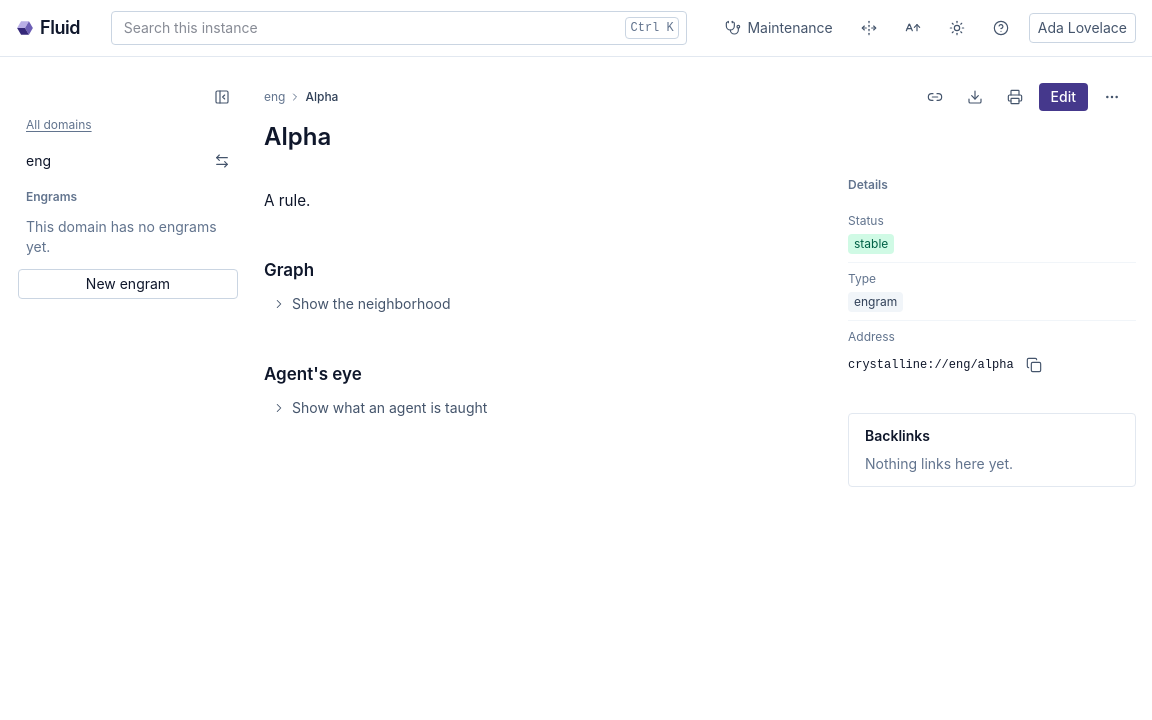
it: the palette's actions › shares through the same live region the button announces in
Expected: the heading "Alpha" is shown, [264,121,331,153]
Type keys "{Meta>}k{/Meta}"
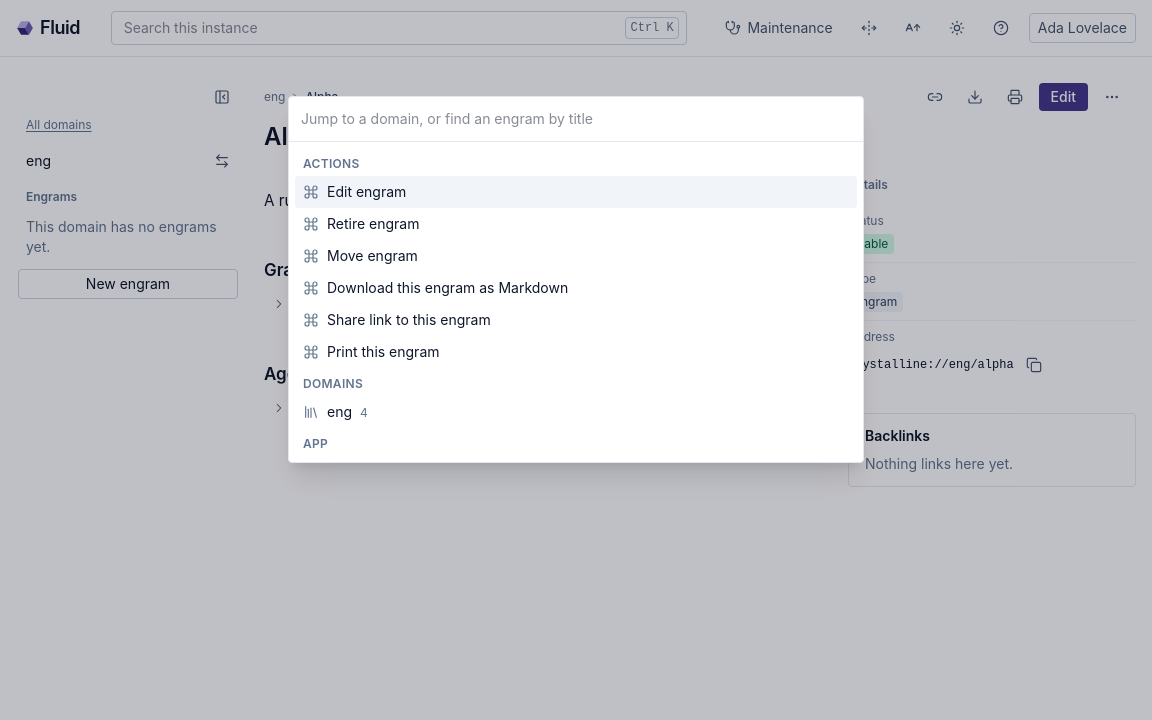
Click the option "Share link to this engram" at (397, 320), box [303,311,491,328]
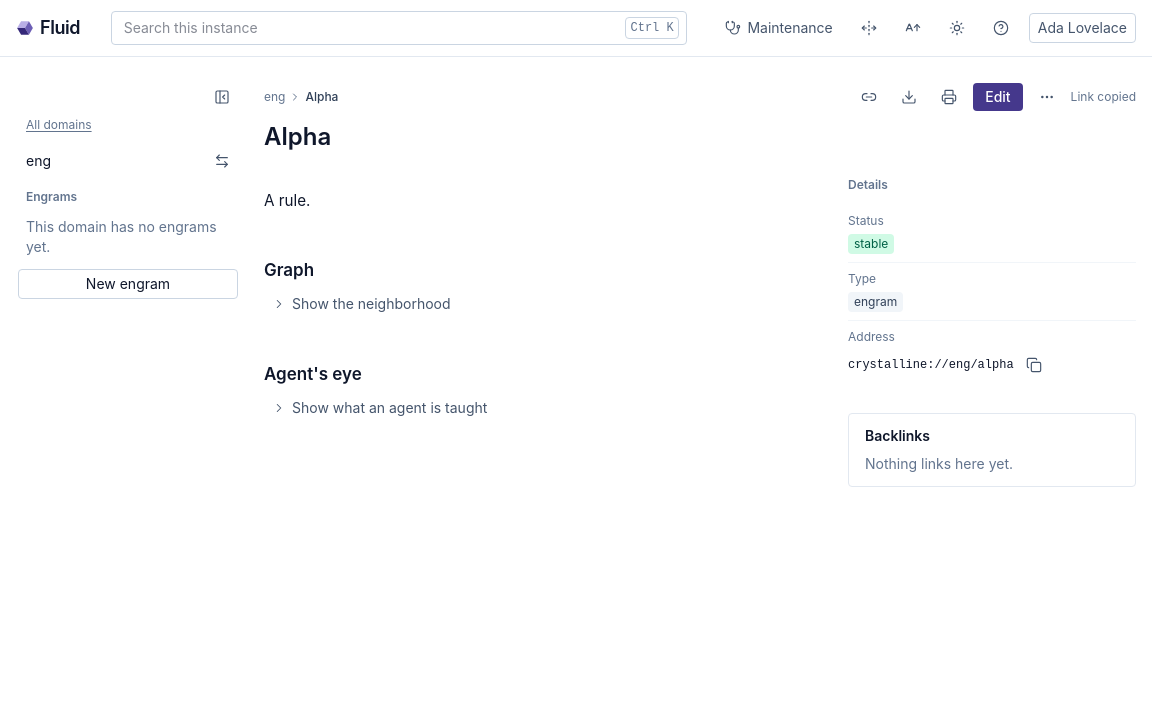
Expected: the text "Link copied" is shown, [1071,89,1136,105]
